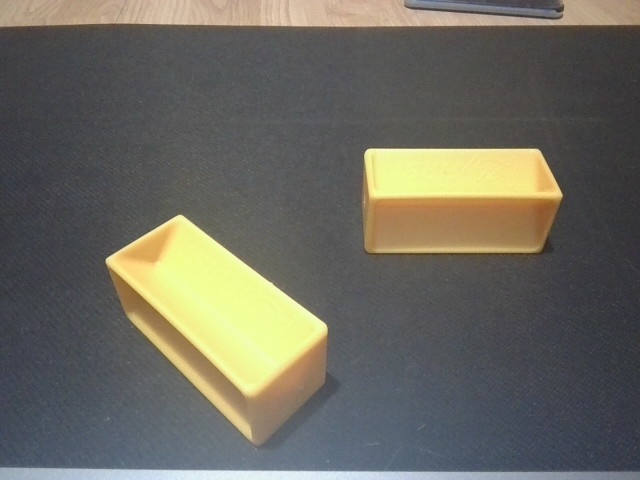YellowSample: (100, 210, 333, 452), (358, 145, 568, 257)
